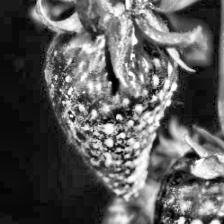Powdery Mildew Fruit: (43, 0, 179, 201), (163, 146, 224, 224)
